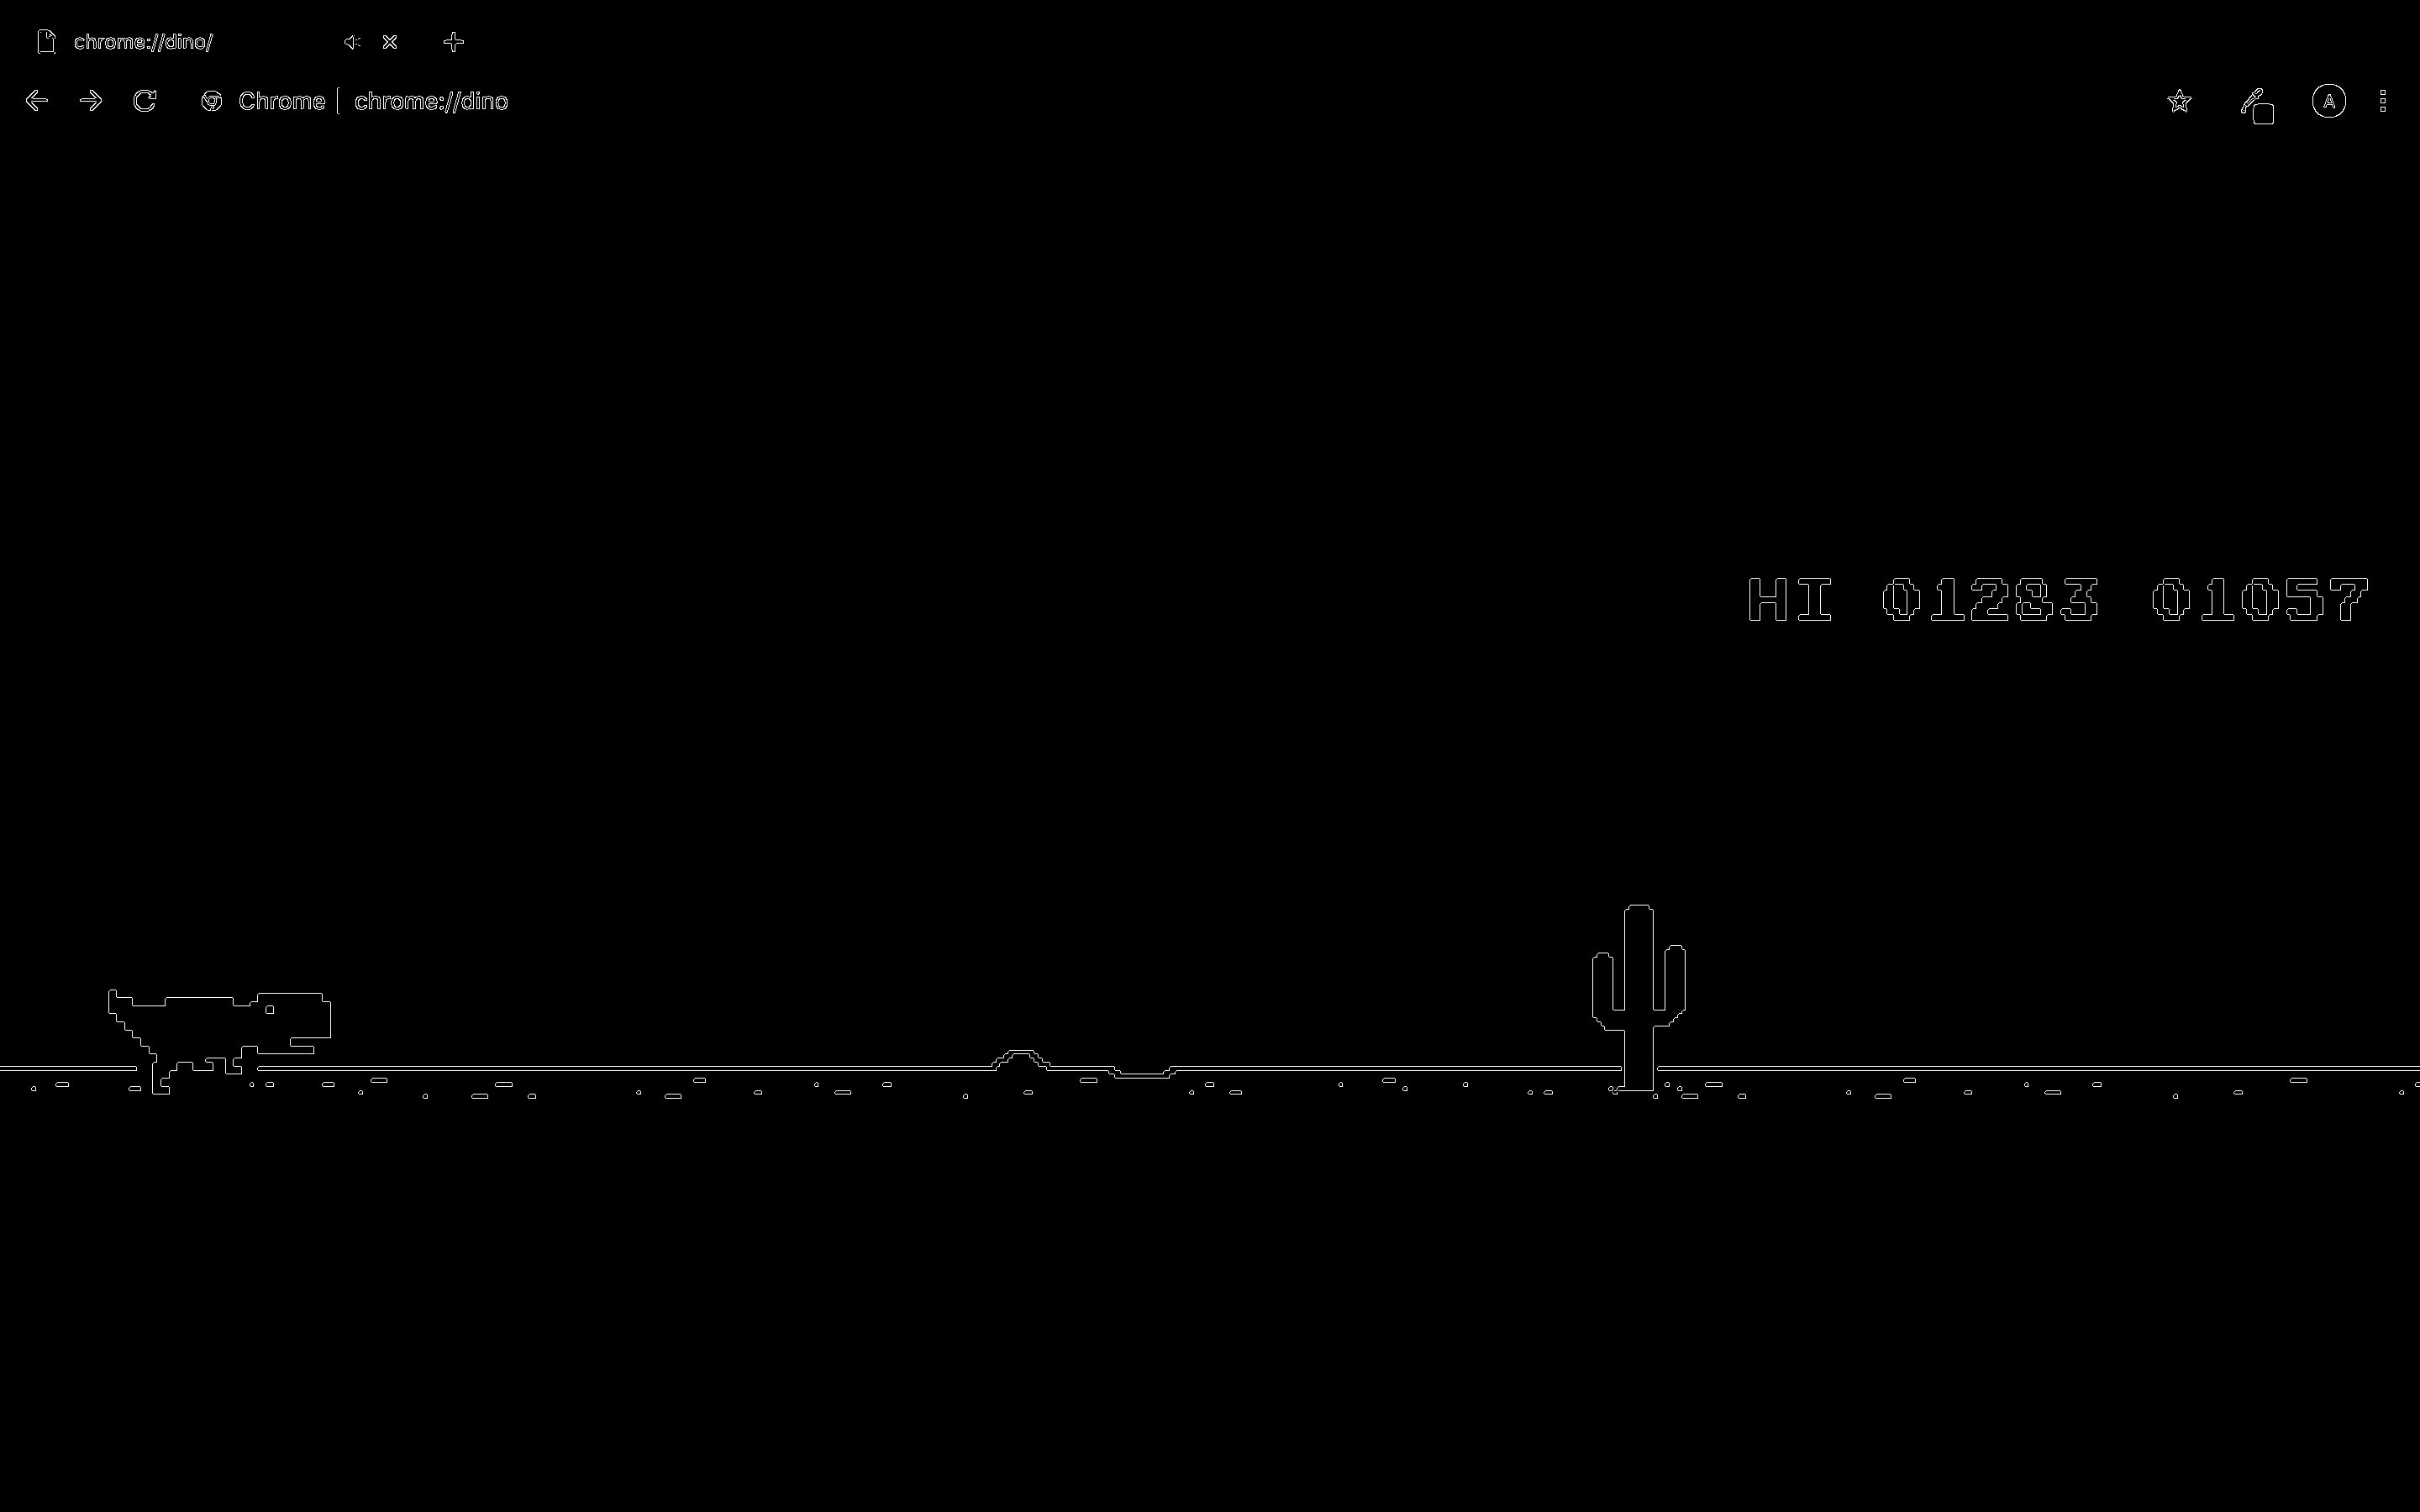Cactus: (1585, 906, 1697, 1092)
Dino: (106, 975, 341, 1092)
